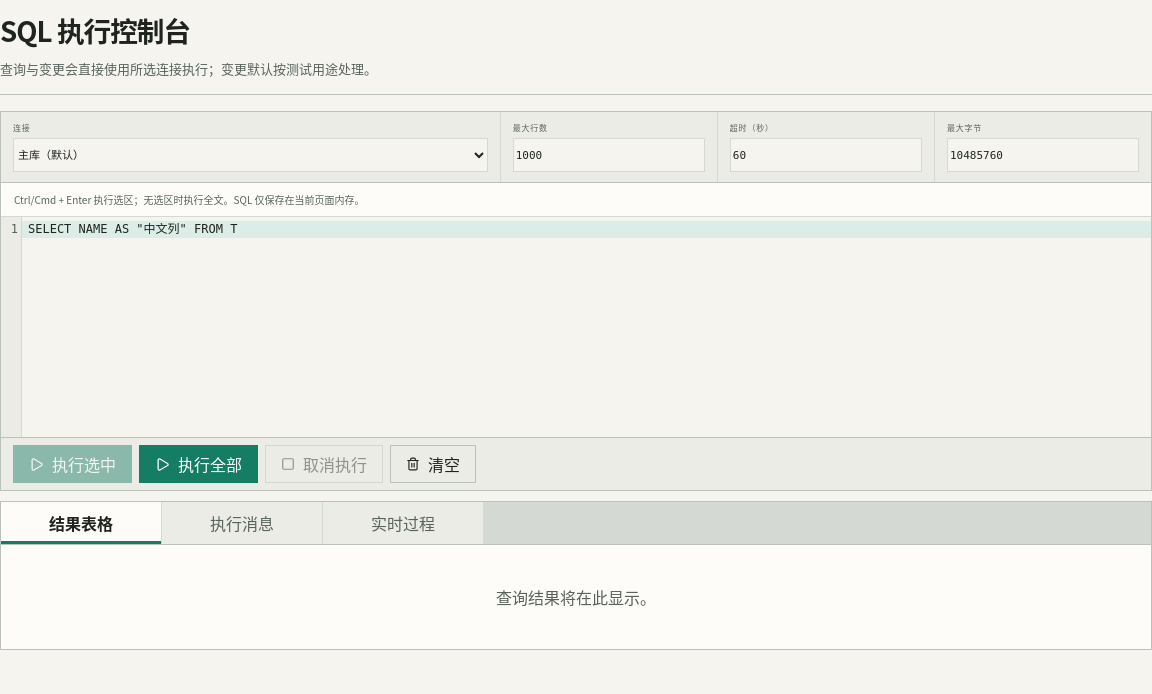
Scenario: SqlConsolePage › classifies and immediately runs a query with a client-known UUID
Click the button "执行全部" at (198, 464), box x1=139 y1=445 x2=258 y2=483
(page scrolled)
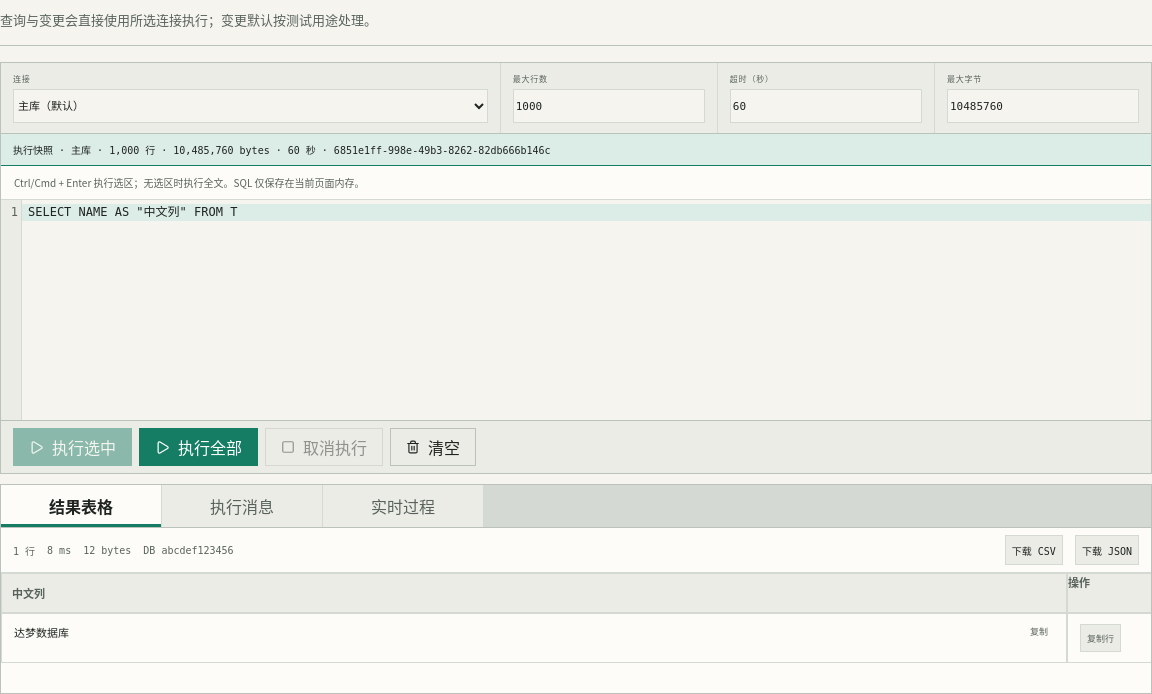
Result: the text "达梦数据库" is shown at x1=14 y1=627 x2=69 y2=640
